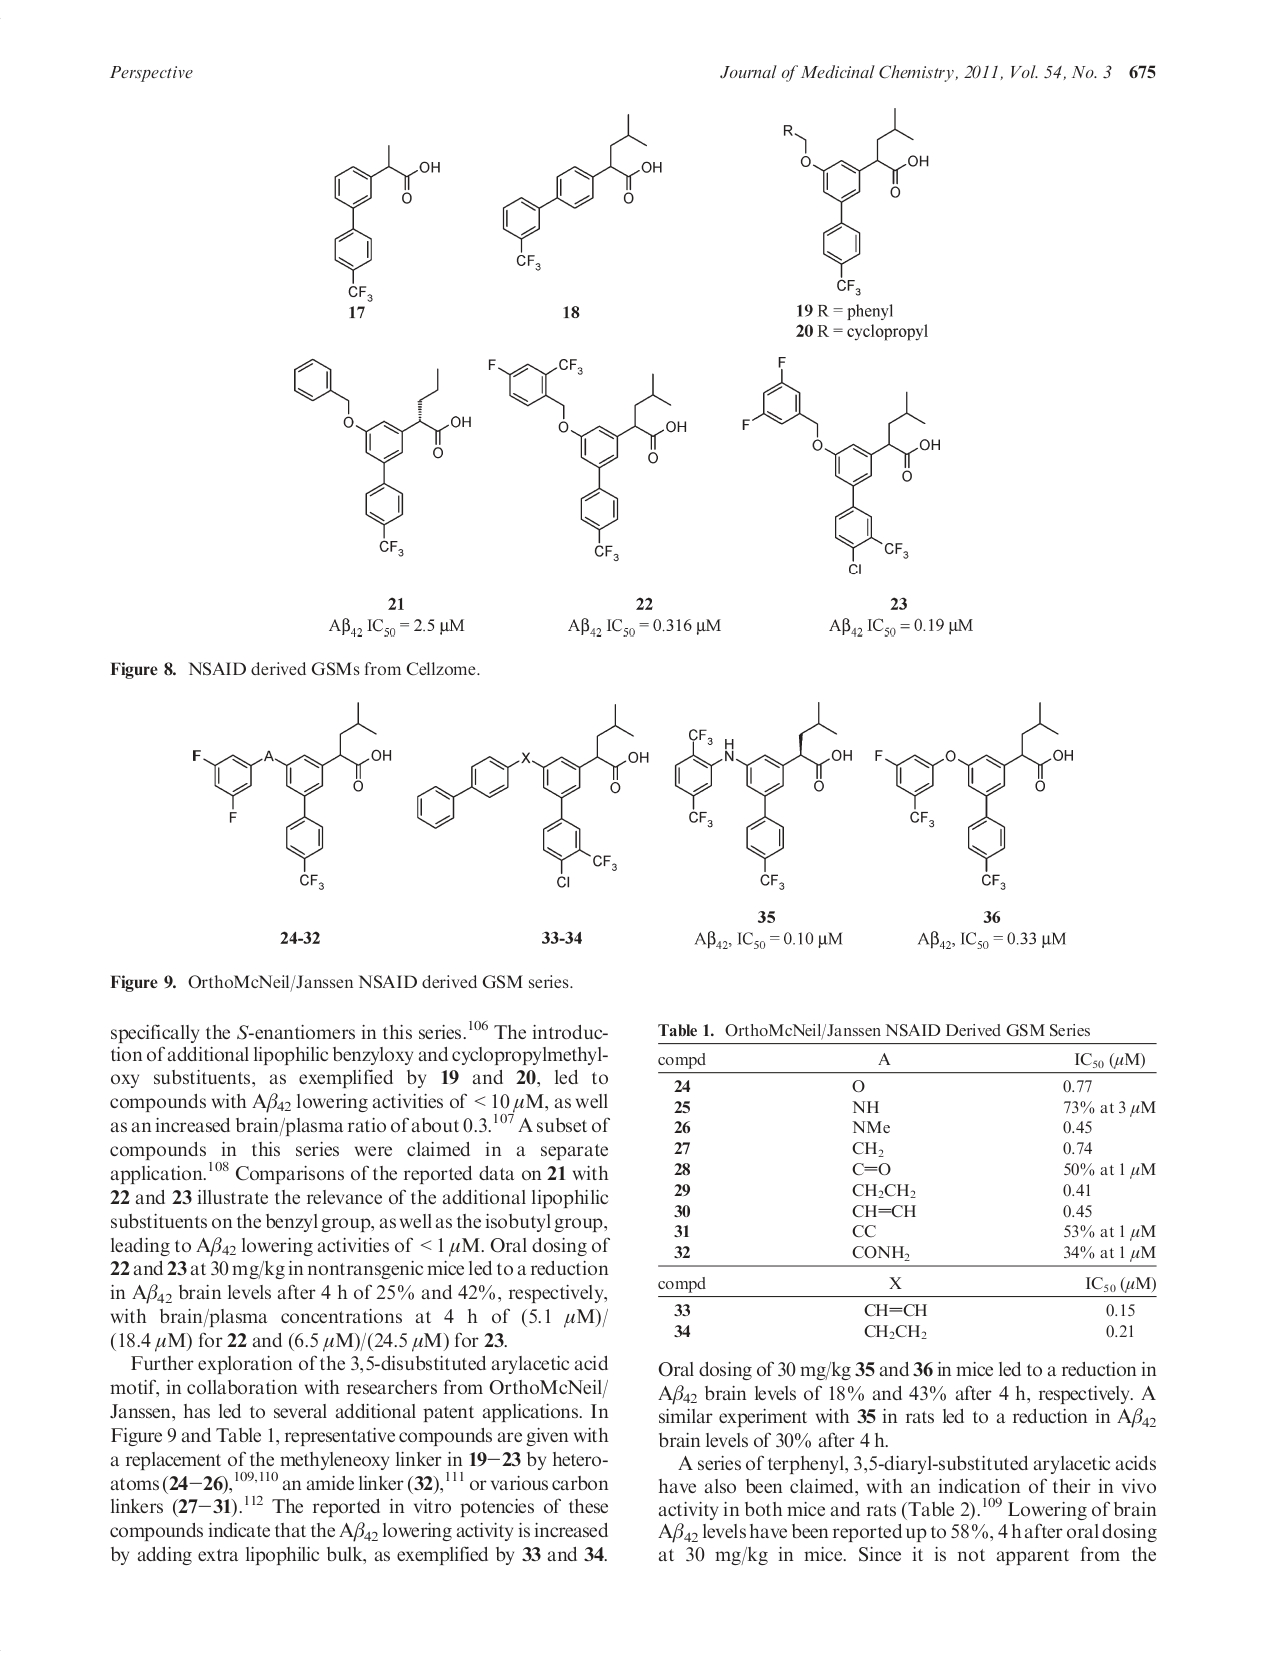exist_molecular: (485, 343, 697, 565), (735, 351, 943, 576), (414, 700, 650, 892), (181, 696, 394, 902), (870, 701, 1081, 894), (291, 348, 475, 567), (672, 702, 856, 894), (781, 106, 938, 297), (493, 110, 668, 273), (327, 142, 449, 306)
